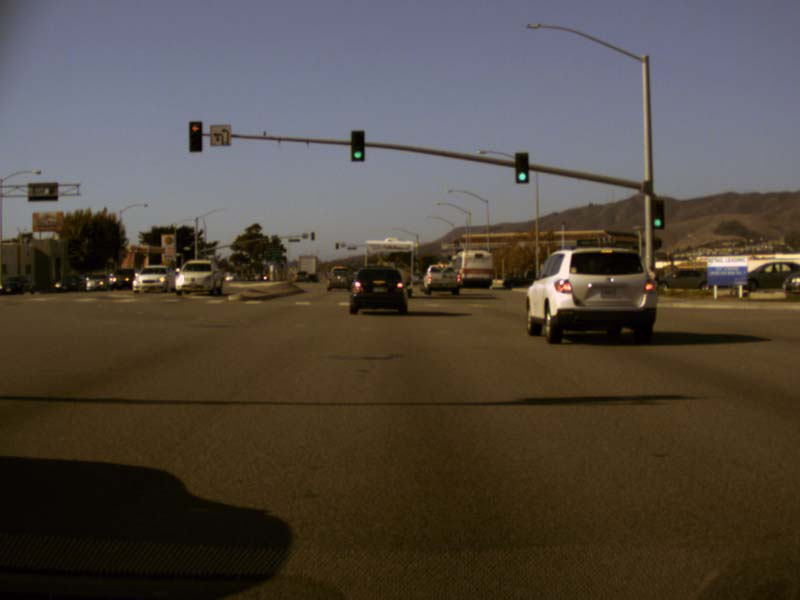Green: (350, 130, 364, 162), (514, 152, 528, 183), (651, 199, 664, 229)
Red: (188, 120, 202, 152)
